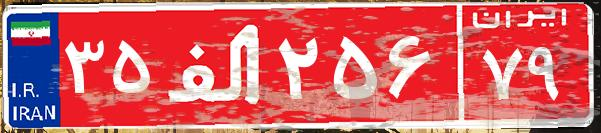2: (273, 28, 330, 110)
3: (57, 26, 110, 107)
5: (330, 28, 385, 110), (110, 28, 158, 105)
6: (385, 28, 445, 110)
7: (475, 38, 525, 113)
9: (525, 38, 570, 115)
الف: (158, 15, 273, 115)
